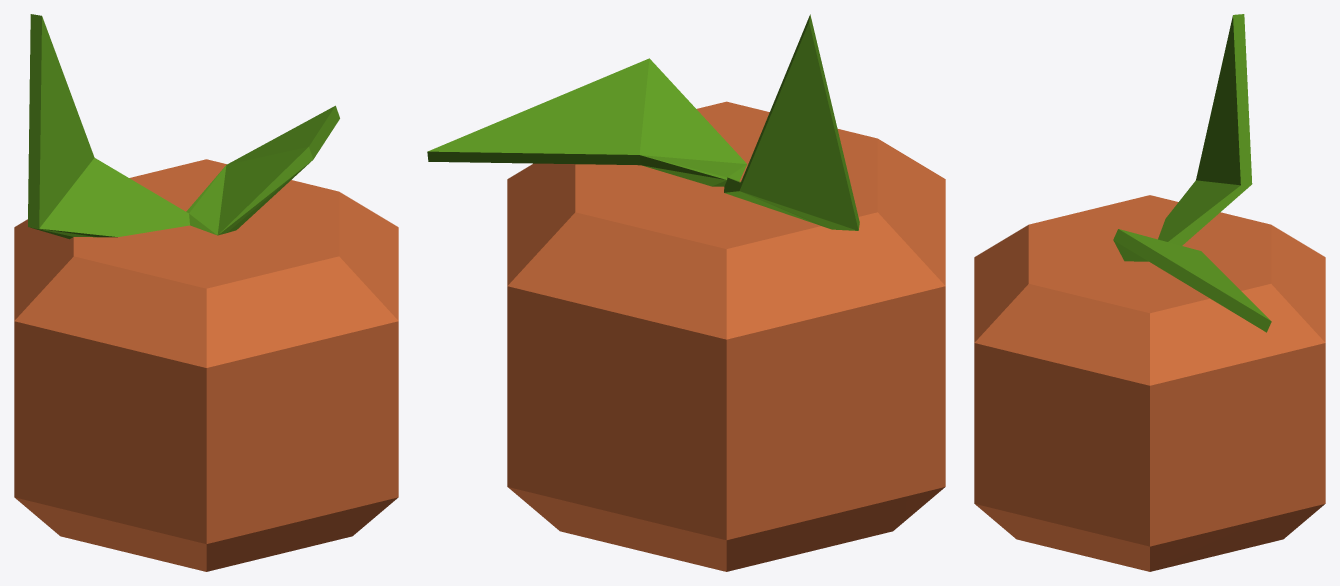
Rendered from Prop_Vegetable_Pumpkin_02.fbx.
3 views of the same model, side by side, from view 1: azimuth 30°, elevation 25°; view 2: azimuth 150°, elevation 25°; view 3: azimuth 270°, elevation 25° (orthographic). The views are drawn at different scales.
Visible parts, largest first — view 1: Prop_Vegetable_Pumpkin_02; view 2: Prop_Vegetable_Pumpkin_02; view 3: Prop_Vegetable_Pumpkin_02.
Part boxes in pixels (box(x1,y1,x2,y2)): Prop_Vegetable_Pumpkin_02: box(14, 14, 398, 571); Prop_Vegetable_Pumpkin_02: box(427, 14, 945, 571); Prop_Vegetable_Pumpkin_02: box(974, 14, 1325, 571).
Size of the model in its own units: 15.42 by 18.16 by 13.17.
